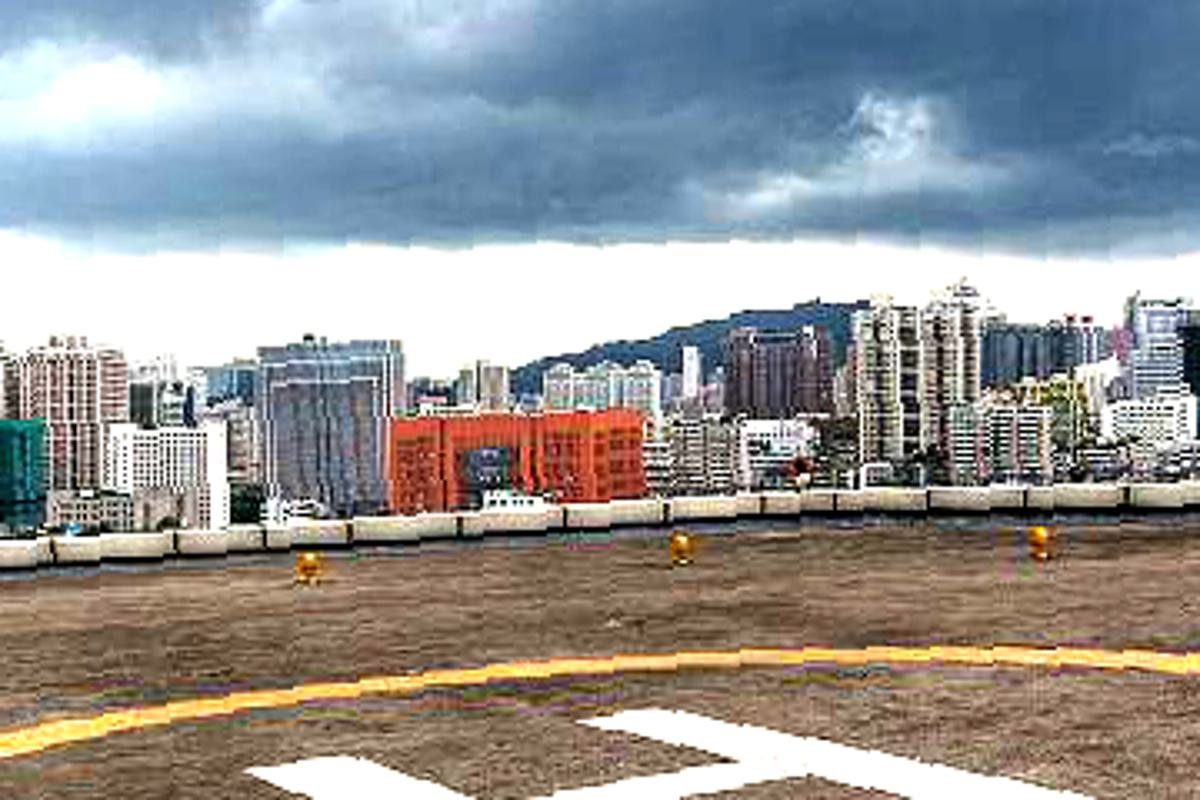Apron: (15, 640, 1200, 800)
